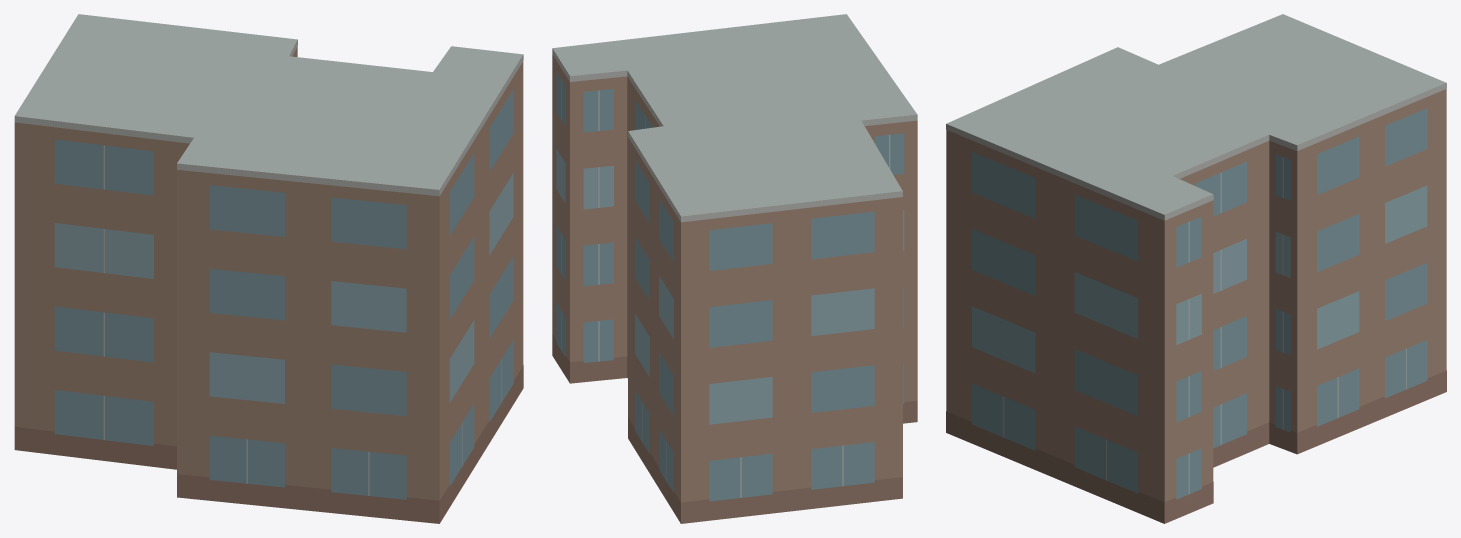
Rendered from survey-upis-32911780.glb.
3 renders of one model, left to right at view 1: azimuth 30°, elevation 25°; view 2: azimuth 150°, elevation 25°; view 3: azimuth 270°, elevation 25°, orthographic. The views are drawn at different scales.
Visible parts, largest first — view 1: survey-upis-32911780.tmp; view 2: survey-upis-32911780.tmp; view 3: survey-upis-32911780.tmp.
Boxes of the visible parts, x1=… form: survey-upis-32911780.tmp: x1=14, y1=14, x2=523, y2=523; survey-upis-32911780.tmp: x1=552, y1=14, x2=917, y2=523; survey-upis-32911780.tmp: x1=946, y1=14, x2=1446, y2=523.
Size of the model in its own units: 17.99 by 12.9 by 18.95.
